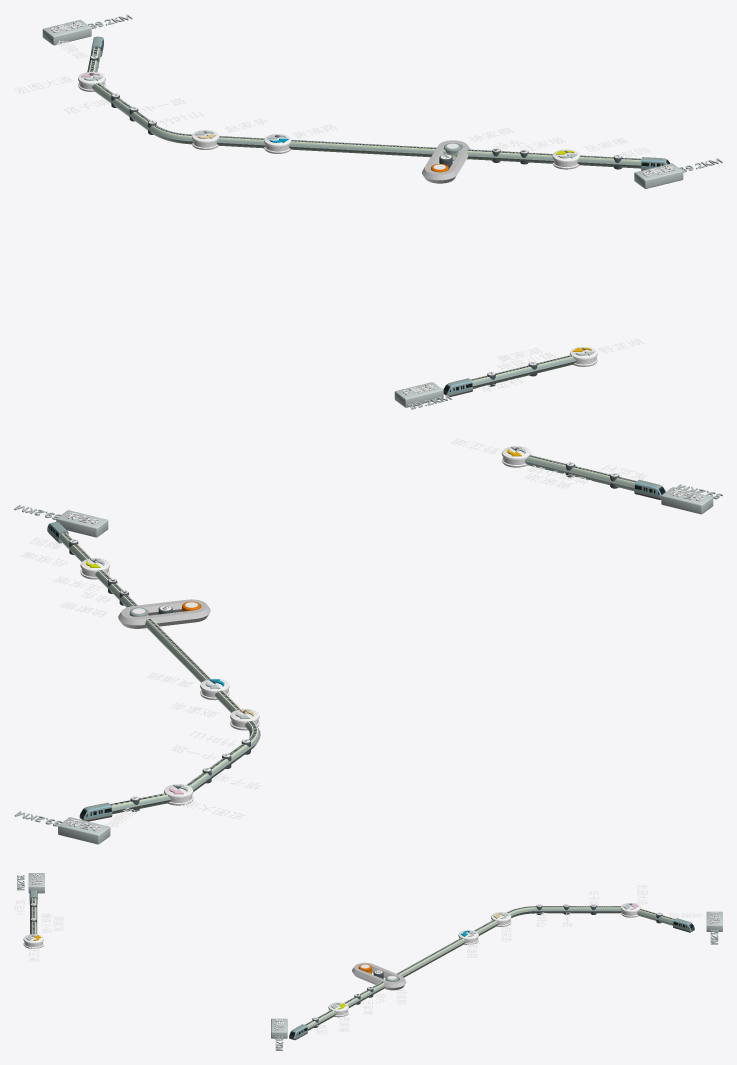
The picture shows the model from 3 angles, top to bottom: view 1: azimuth 30°, elevation 25°; view 2: azimuth 150°, elevation 25°; view 3: azimuth 270°, elevation 25°; orthographic projection. The views are drawn at different scales.
Parts seen in each view (by area): view 1: 8号线, psop-whgj-xjp-徐家棚, 8号线01, Box014, Box007, Box015, psop-whgj-hpl-黄浦路, psop-whgj-yjz-岳家嘴, psop-whgj-zjt-赵家条, psop-whgj-htdd-宏图大道, psop-whgj-yzh-野芷湖; view 2: 8号线, psop-whgj-xjp-徐家棚, 8号线01, Box015, Box007, Box014, psop-whgj-htdd-宏图大道, psop-whgj-yzh-野芷湖, psop-whgj-hpl-黄浦路, psop-whgj-zjt-赵家条, psop-whgj-yjz-岳家嘴; view 3: 8号线, psop-whgj-xjp-徐家棚, psop-whgj-htdd-宏图大道, psop-whgj-yzh-野芷湖, psop-whgj-yjz-岳家嘴, psop-whgj-zjt-赵家条, psop-whgj-hpl-黄浦路, Box007, Box014.
Part boxes in pixels (<box>): 8号线: <box>87,47,641,168</box>; psop-whgj-xjp-徐家棚: <box>422,127,513,183</box>; 8号线01: <box>471,355,575,388</box>; Box014: <box>634,163,683,188</box>; Box007: <box>42,20,91,45</box>; Box015: <box>394,382,443,407</box>; psop-whgj-hpl-黄浦路: <box>264,124,337,153</box>; psop-whgj-yjz-岳家嘴: <box>552,137,628,169</box>; psop-whgj-zjt-赵家条: <box>192,118,268,149</box>; psop-whgj-htdd-宏图大道: <box>14,72,105,93</box>; psop-whgj-yzh-野芷湖: <box>569,339,644,366</box>; 8号线: <box>59,532,260,814</box>; psop-whgj-xjp-徐家棚: <box>59,599,210,628</box>; 8号线01: <box>524,455,636,490</box>; Box015: <box>661,487,713,514</box>; Box007: <box>58,817,110,844</box>; Box014: <box>56,510,108,537</box>; psop-whgj-htdd-宏图大道: <box>163,784,245,819</box>; psop-whgj-yzh-野芷湖: <box>451,438,531,467</box>; psop-whgj-hpl-黄浦路: <box>147,672,229,700</box>; psop-whgj-zjt-赵家条: <box>171,702,259,730</box>; psop-whgj-yjz-岳家嘴: <box>20,551,109,579</box>; 8号线: <box>304,906,674,1030</box>; psop-whgj-xjp-徐家棚: <box>352,962,406,1004</box>; psop-whgj-htdd-宏图大道: <box>620,885,647,917</box>; psop-whgj-yzh-野芷湖: <box>23,934,43,961</box>; psop-whgj-yjz-岳家嘴: <box>328,1002,349,1031</box>; psop-whgj-zjt-赵家条: <box>491,912,511,941</box>; psop-whgj-hpl-黄浦路: <box>458,930,478,958</box>; Box007: <box>706,911,722,931</box>; Box014: <box>271,1018,287,1038</box>.
Bounding box in the file's own units: 2.21 × 0.0594 × 3.79.
13 materials, 4 textured.
